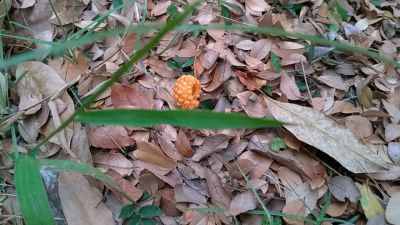eggs: (170, 73, 203, 112)
